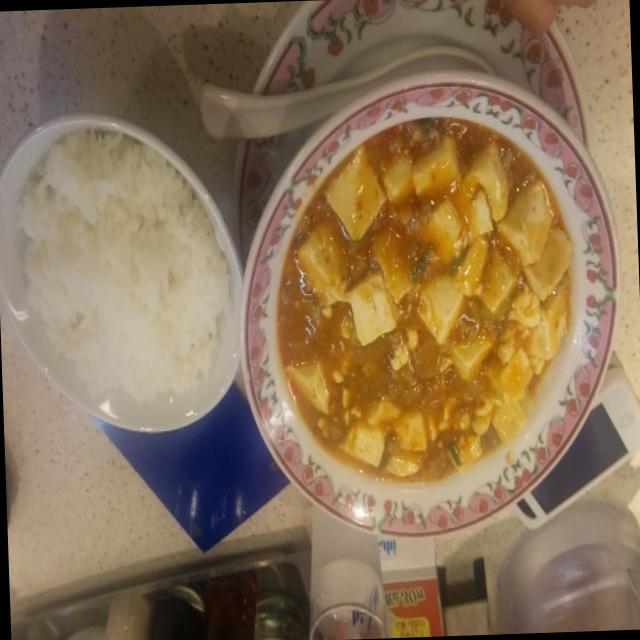Rice: (12, 127, 238, 404)
